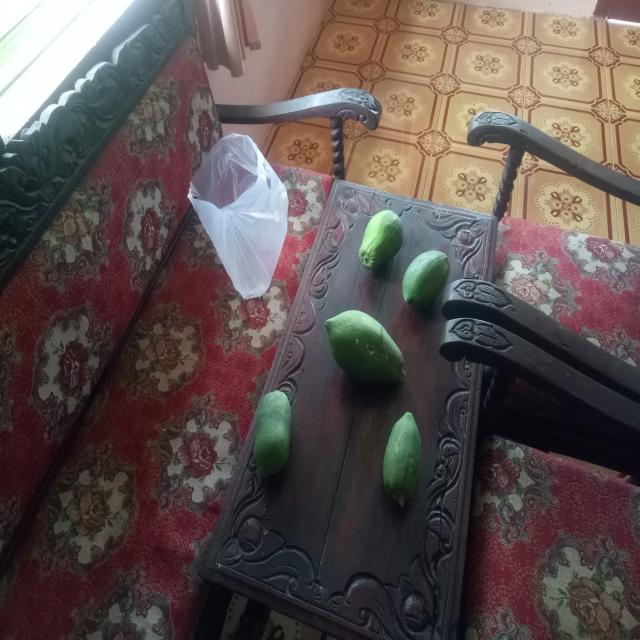Pepaya unrippen: (318, 301, 406, 380), (347, 202, 404, 277), (247, 394, 290, 476), (388, 412, 427, 498), (404, 241, 447, 313)
